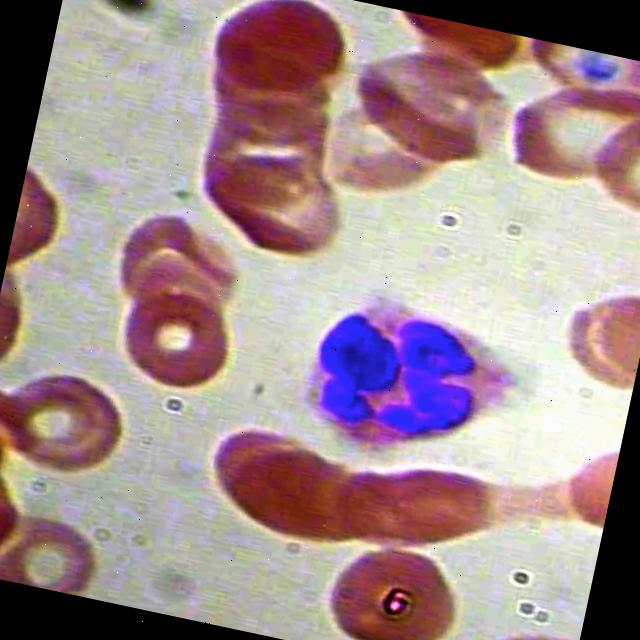RBC: (338, 34, 520, 178), (183, 146, 362, 274), (331, 444, 496, 566), (214, 433, 379, 554), (0, 356, 143, 495), (96, 202, 253, 328), (309, 530, 473, 640), (198, 0, 357, 113), (104, 285, 244, 399), (0, 501, 108, 598), (515, 36, 640, 115), (567, 96, 640, 222), (550, 426, 622, 544), (572, 275, 640, 397)
WBC: (281, 270, 530, 482)
